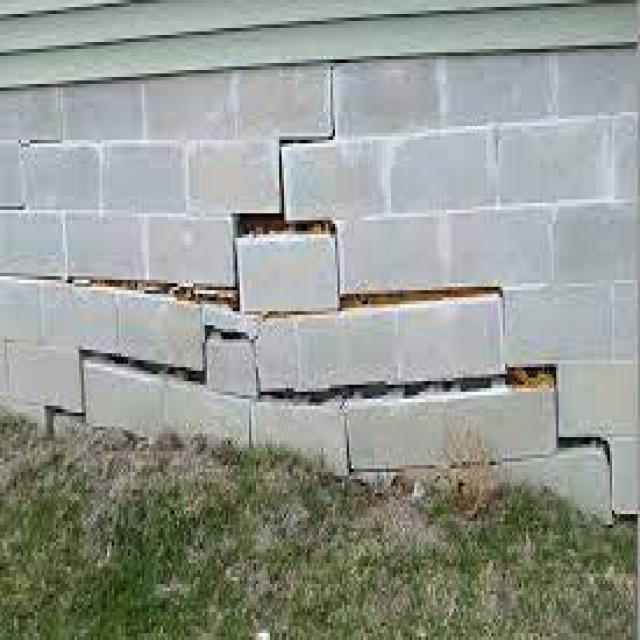Crack: (42, 56, 335, 434), (282, 213, 633, 507), (0, 88, 58, 214)
